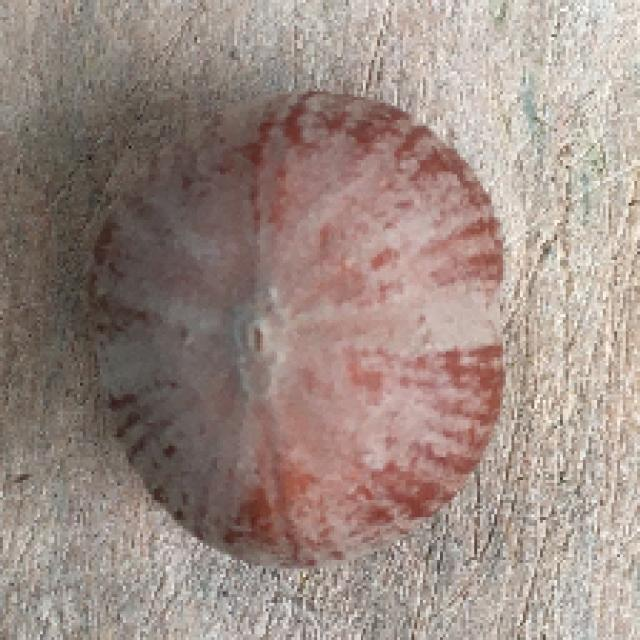qualityHazelnut: (86, 86, 511, 571)
